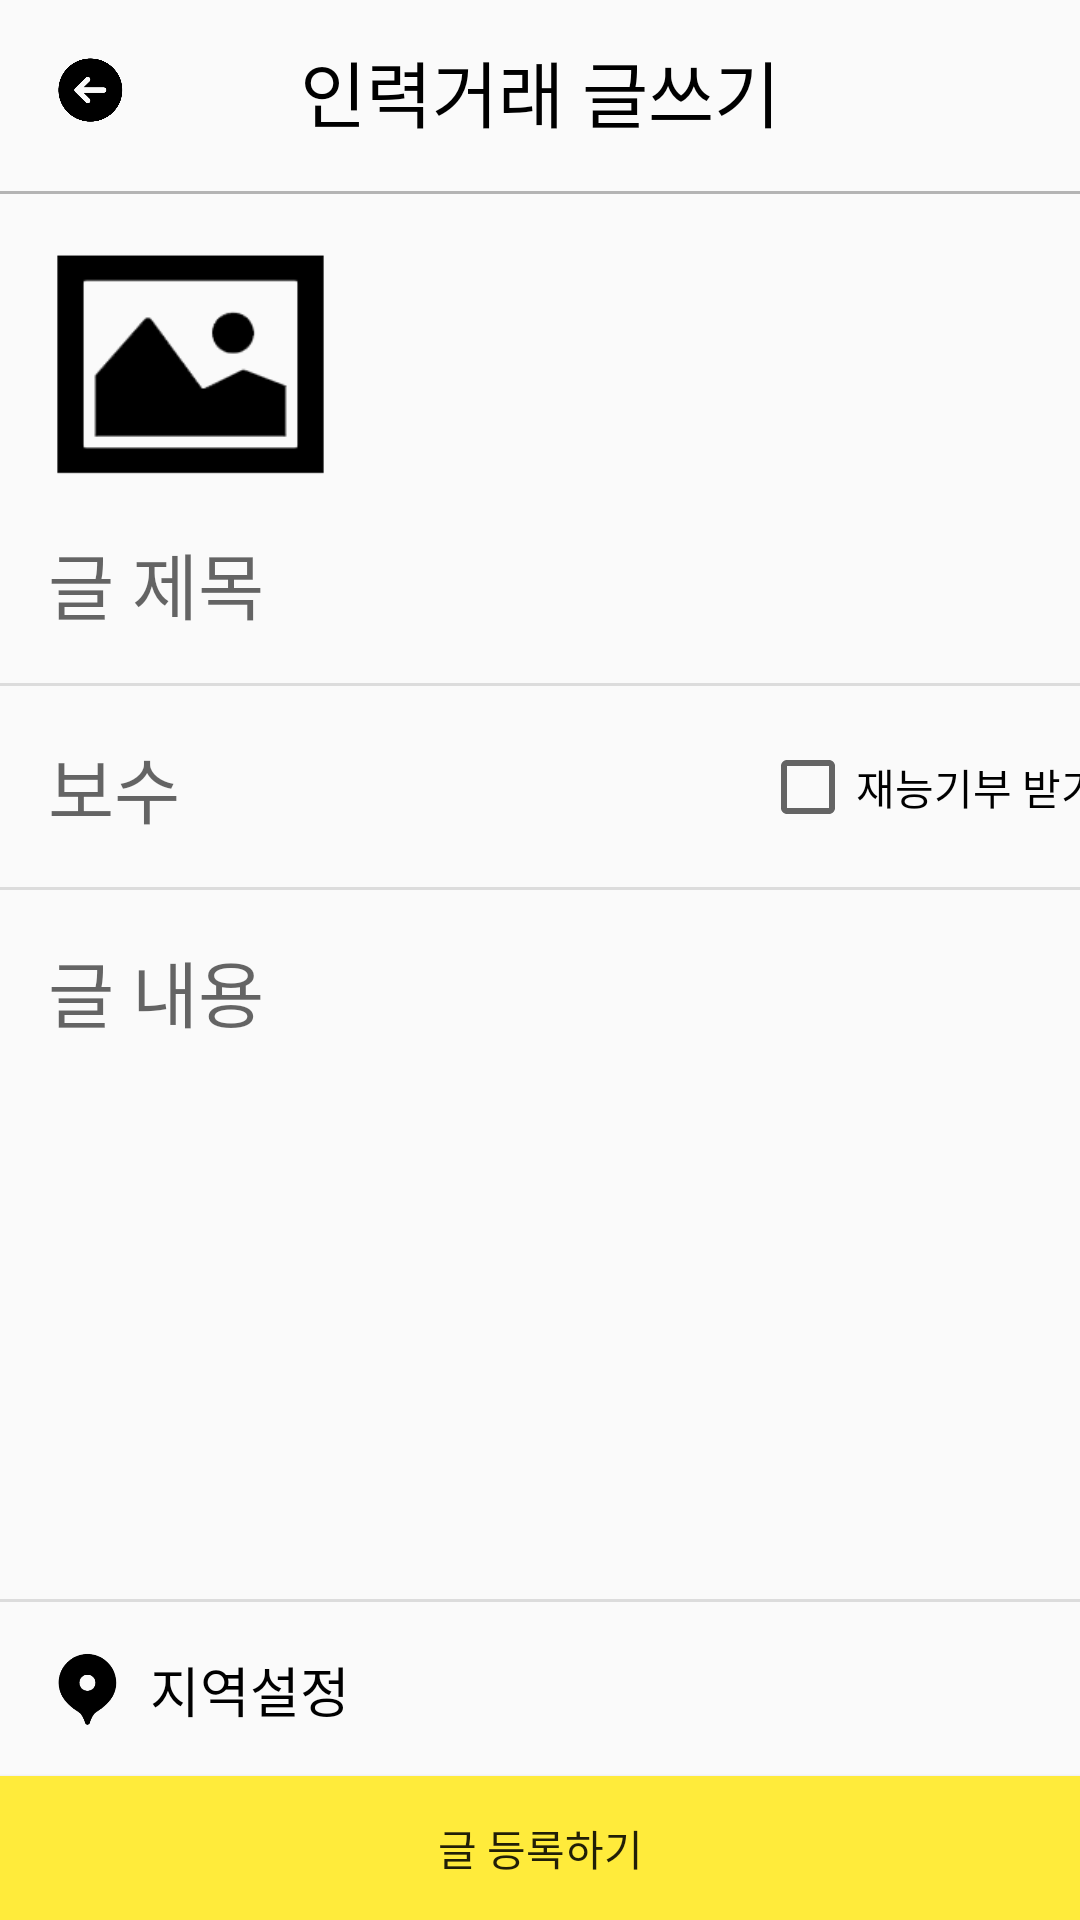

Named icons in this screenshot (1080*1920) and their centers, (x,y):
goback: (90,90)
maps: (87,1689)
photo: (190,364)
